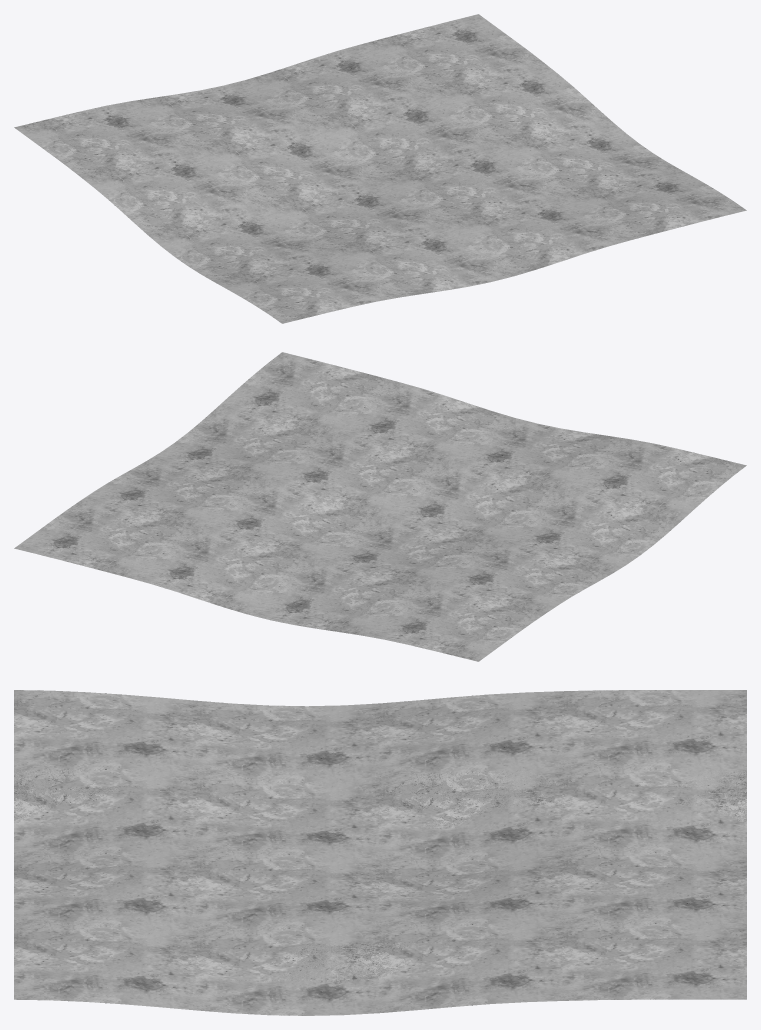
File: SM_Floor_16x16__Damaged_01a.fbx
3 renders of one model, top to bottom at view 1: azimuth 30°, elevation 25°; view 2: azimuth 150°, elevation 25°; view 3: azimuth 270°, elevation 25°, orthographic. The views are drawn at different scales.
Visible parts, largest first — view 1: SM_Floor_16x16__Damaged_01a_LOD0; view 2: SM_Floor_16x16__Damaged_01a_LOD0; view 3: SM_Floor_16x16__Damaged_01a_LOD0.
Part boxes in pixels (x1,y1,x2,y2): SM_Floor_16x16__Damaged_01a_LOD0: (14, 14, 746, 323); SM_Floor_16x16__Damaged_01a_LOD0: (14, 352, 746, 661); SM_Floor_16x16__Damaged_01a_LOD0: (14, 690, 746, 1015).
Bounding box in the file's own units: 1600 × 1600 × 40.75.
